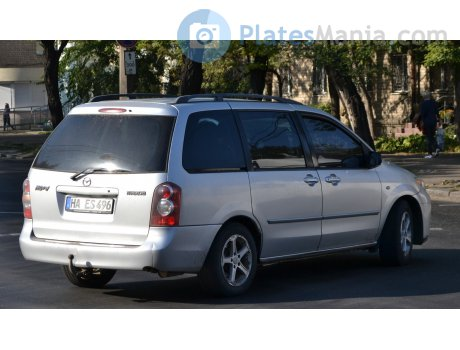License Plates: (69, 196, 112, 211)
